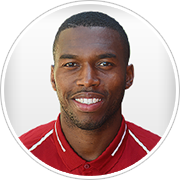face: (47, 36, 136, 113)
